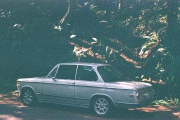car: (16, 62, 154, 116)
